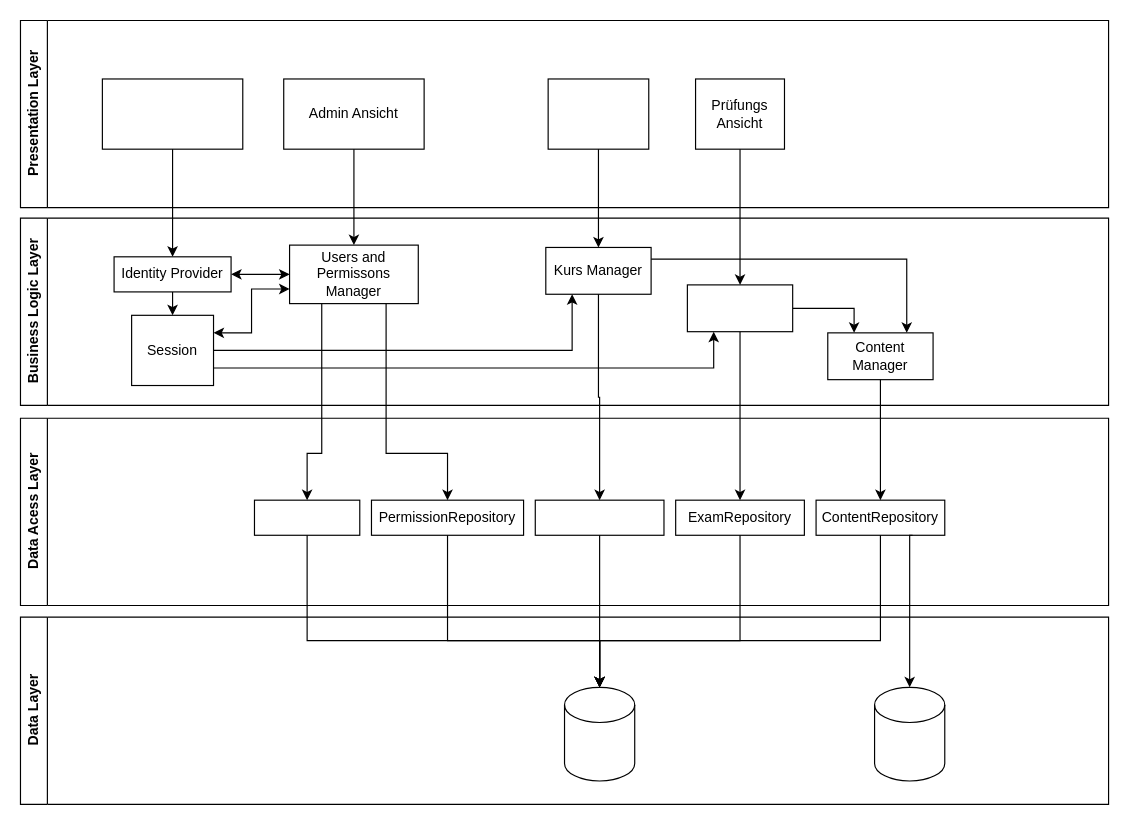
Some shapes in this 1129 by 825 pixel diagram are drawn without their labels. Here are the shapes that lost their labels. From the top down, the centre of each, then its label:
At pixel 172 113: "Login Maske".
At pixel 598 113: "Kurs Ansicht".
At pixel 739 308: "Prüfungs Manager".
At pixel 306 517: "UserRepository".
At pixel 599 517: "CourseRepository".
At pixel 599 733: "DB".
At pixel 909 733: "Files".
